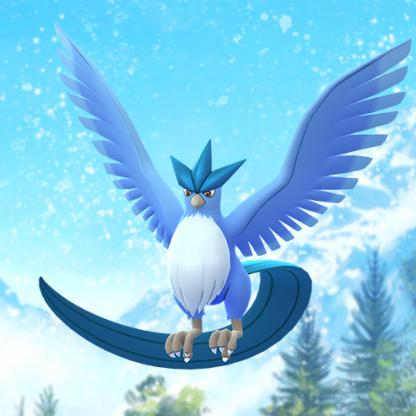Articuno: (14, 13, 416, 375)
